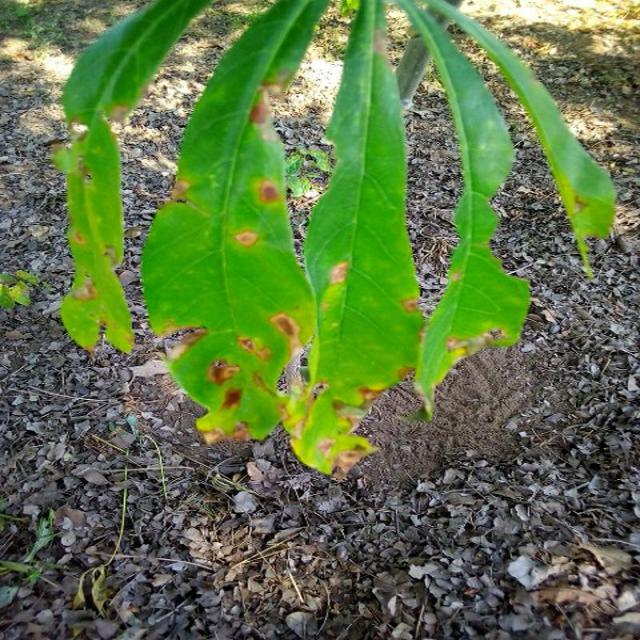cassava leaf: (56, 0, 617, 479)
